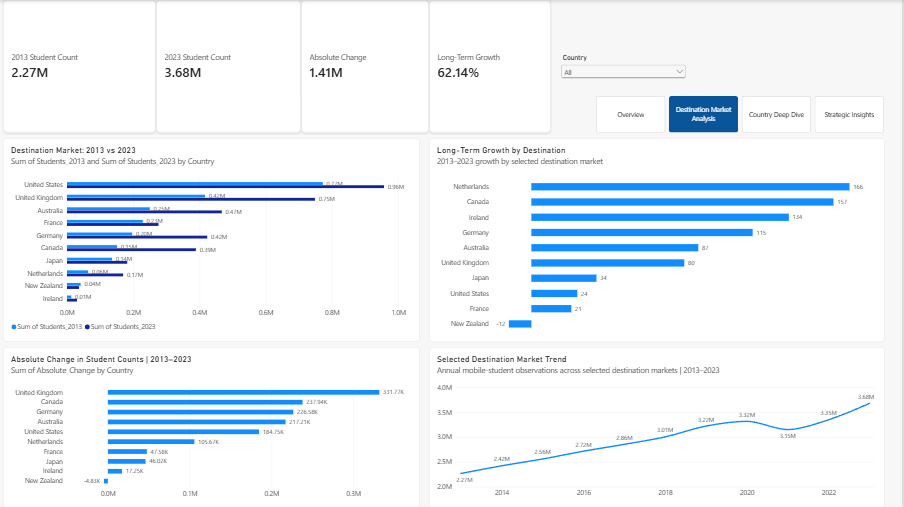

This screenshot's page, from the dashboard's own definition file:
{"tool":"powerbi","page":{"name":"Destination Market Analysis","canvas":[1920,1080],"ordinal":1},"visuals":[{"type":"cardVisual","fields":{"Data":["Sum(Destination_Market_Analysis.Students_2013)"]},"box":[10.6,0,325.3,282.8],"z":0},{"type":"cardVisual","fields":{"Data":["Sum(Destination_Market_Analysis.Students_2023)"]},"box":[335.9,0,308.3,282.8],"z":1000},{"type":"cardVisual","fields":{"Data":["Sum(Destination_Market_Analysis.Absolute_Change)"]},"box":[644.2,0,272.1,282.8],"z":2000},{"type":"cardVisual","fields":{"Data":["Destination_Market_Analysis.Overall Long-Term Growth %"]},"box":[916.3,0,259.4,282.8],"z":3000},{"type":"clusteredBarChart","title":"Destination Market: 2013 vs 2023","fields":{"Category":["Destination_Market_Analysis.Country"],"Y":["Sum(Destination_Market_Analysis.Students_2013)","Sum(Destination_Market_Analysis.Students_2023)"]},"box":[11,293.9,886,433],"z":4000},{"type":"clusteredBarChart","title":"Long-Term Growth by Destination","fields":{"Category":["Destination_Market_Analysis.Country"],"Y":["Avg(Destination_Market_Analysis.Long_Term_Growth_Percent)"]},"box":[916.3,293.4,969.4,433.7],"z":5000},{"type":"clusteredBarChart","title":"Absolute Change in Student Counts | 2013–2023","fields":{"Category":["Destination_Market_Analysis.Country"],"Y":["Sum(Destination_Market_Analysis.Absolute_Change)"]},"box":[11,737,886,343],"z":6000},{"type":"lineChart","title":"Selected Destination Market Trend","fields":{"Category":["Student_Mobility.Year"],"Y":["Sum(Student_Mobility.Mobile_Students)"]},"box":[916.3,737.7,969.4,342.3],"z":7000},{"type":"slicer","fields":{"Values":["Destination_Market_Analysis.Country"]},"box":[1192.7,114.8,274.3,55.3],"z":8000},{"type":"pageNavigator","box":[1271.3,204.1,614.4,78.7],"z":9000}]}

Visuals, with their boxes in screenshot pixels (x1, y1, x2, y2), scaled from the page's 1920x1080 canvas onto the 904x507 screenshot:
cardVisual - Sum(Destination_Market_Analysis.Students_2013): locate(5, 0, 158, 133)
cardVisual - Sum(Destination_Market_Analysis.Students_2023): locate(158, 0, 303, 133)
cardVisual - Sum(Destination_Market_Analysis.Absolute_Change): locate(303, 0, 431, 133)
cardVisual - Destination_Market_Analysis.Overall Long-Term Growth %: locate(431, 0, 554, 133)
"Destination Market: 2013 vs 2023" clusteredBarChart: locate(5, 138, 422, 341)
"Long-Term Growth by Destination" clusteredBarChart: locate(431, 138, 888, 341)
"Absolute Change in Student Counts | 2013–2023" clusteredBarChart: locate(5, 346, 422, 506)
"Selected Destination Market Trend" lineChart: locate(431, 346, 888, 506)
slicer - Destination_Market_Analysis.Country: locate(562, 54, 691, 80)
pageNavigator: locate(599, 96, 888, 133)
